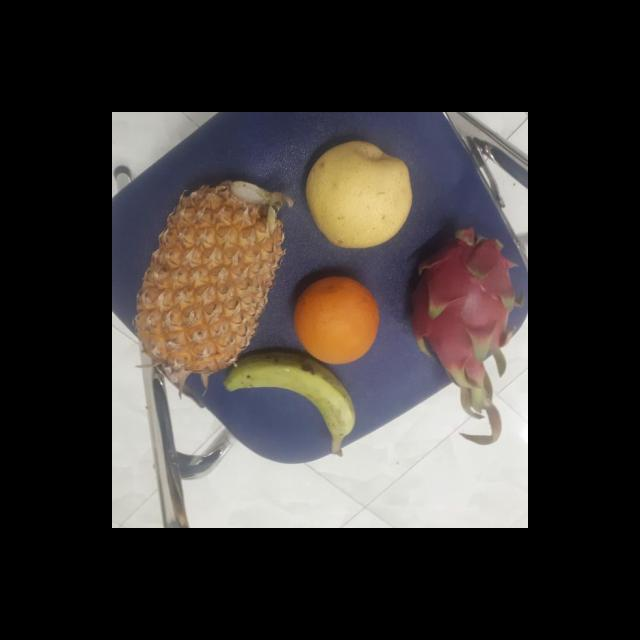banana: (231, 352, 353, 446)
orange: (286, 274, 384, 366)
pear: (300, 138, 413, 250)
pineapple: (130, 181, 284, 370)
pitaya: (402, 230, 524, 388)
